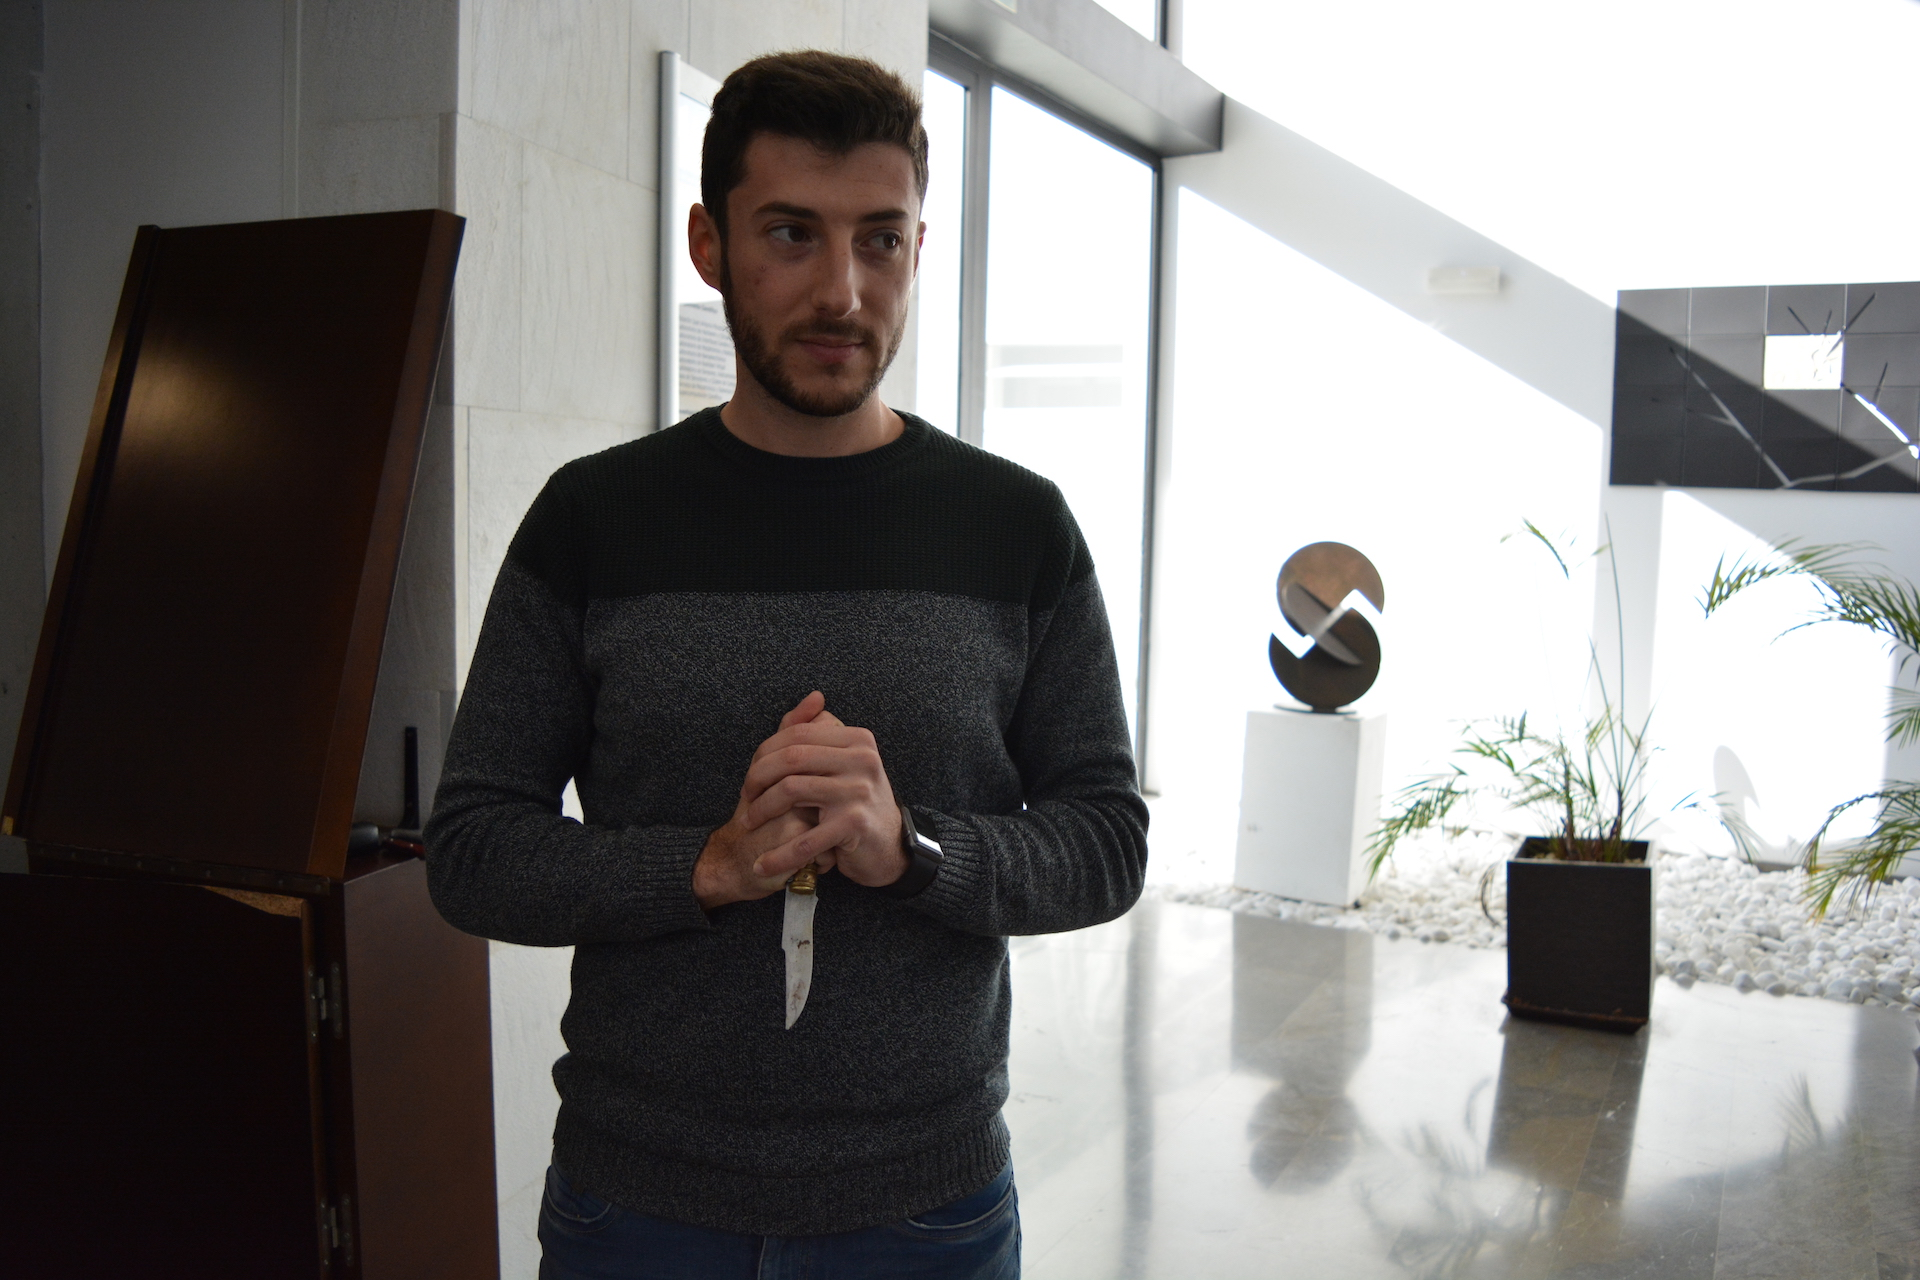knife: (770, 850, 830, 1041)
